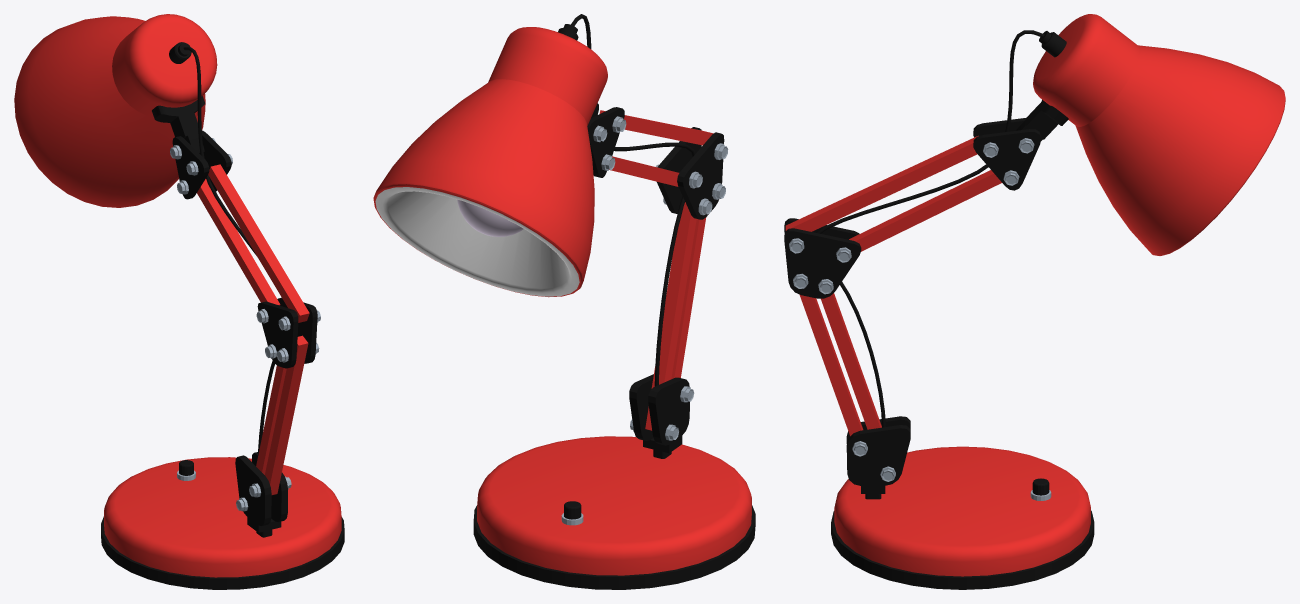
File: Lamp.glb
3 renders of one model, left to right at view 1: azimuth 30°, elevation 25°; view 2: azimuth 150°, elevation 25°; view 3: azimuth 270°, elevation 25°, orthographic. The views are drawn at different scales.
Visible parts, largest first — view 1: Cylinder.001, Cylinder, Cube.003, Cube.002, Cube.009, Cube, Cube.001, Cube.010, BezierCurve, Cube.008; view 2: Cylinder.001, Cylinder, Cube.002, Cube.003, Cube.008, Cube.001, Cube, BezierCurve, Cube.009, Sphere, Cube.010; view 3: Cylinder.001, Cylinder, Cube.002, Cube.003, Cube.009, Cube.001, Cube.010, Cube, Cube.008, BezierCurve.
Boxes of the visible parts, bbox=[...] form: Cylinder.001: bbox=[14, 14, 217, 207]; Cylinder: bbox=[101, 457, 344, 589]; Cube.003: bbox=[235, 452, 291, 537]; Cube.002: bbox=[256, 297, 320, 368]; Cube.009: bbox=[208, 164, 309, 322]; Cube: bbox=[265, 335, 308, 494]; Cube.001: bbox=[170, 130, 232, 199]; Cube.010: bbox=[197, 179, 280, 305]; BezierCurve: bbox=[183, 47, 274, 457]; Cube.008: bbox=[256, 365, 286, 474]; Cylinder.001: bbox=[373, 24, 607, 297]; Cylinder: bbox=[473, 436, 755, 589]; Cube.002: bbox=[655, 127, 728, 219]; Cube.003: bbox=[629, 374, 694, 458]; Cube.008: bbox=[645, 202, 696, 430]; Cube.001: bbox=[587, 103, 626, 177]; Cube: bbox=[671, 217, 706, 379]; BezierCurve: bbox=[571, 14, 695, 386]; Cube.009: bbox=[599, 110, 713, 145]; Sphere: bbox=[457, 199, 523, 236]; Cube.010: bbox=[609, 156, 679, 186]; Cylinder.001: bbox=[1015, 14, 1285, 255]; Cylinder: bbox=[831, 446, 1094, 589]; Cube.002: bbox=[784, 218, 861, 298]; Cube.003: bbox=[846, 416, 910, 499]; Cube.009: bbox=[785, 135, 978, 231]; Cube.001: bbox=[973, 118, 1041, 190]; Cube.010: bbox=[849, 170, 1001, 251]; Cube: bbox=[799, 294, 863, 436]; Cube.008: bbox=[821, 293, 881, 429]; BezierCurve: bbox=[816, 30, 1044, 427].
Bounding box in the file's own units: 2.05 × 4.43 × 3.91.
